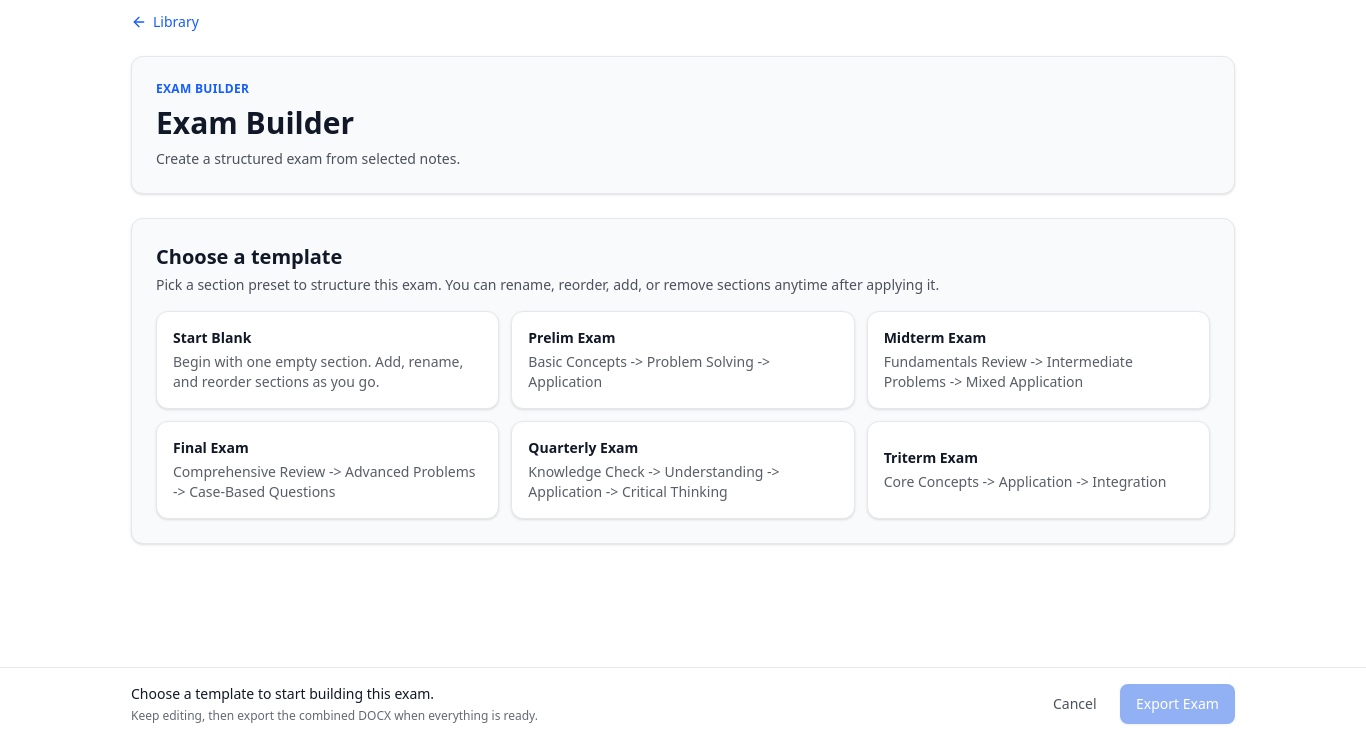
Exam Builder page › applies built-in templates and asks before replacing an edited structure
This screenshot has width=1366, height=740.
Click the button "Prelim Exam Basic Concepts -> Problem Solving -> Application": (683, 360) [511,311,855,409]
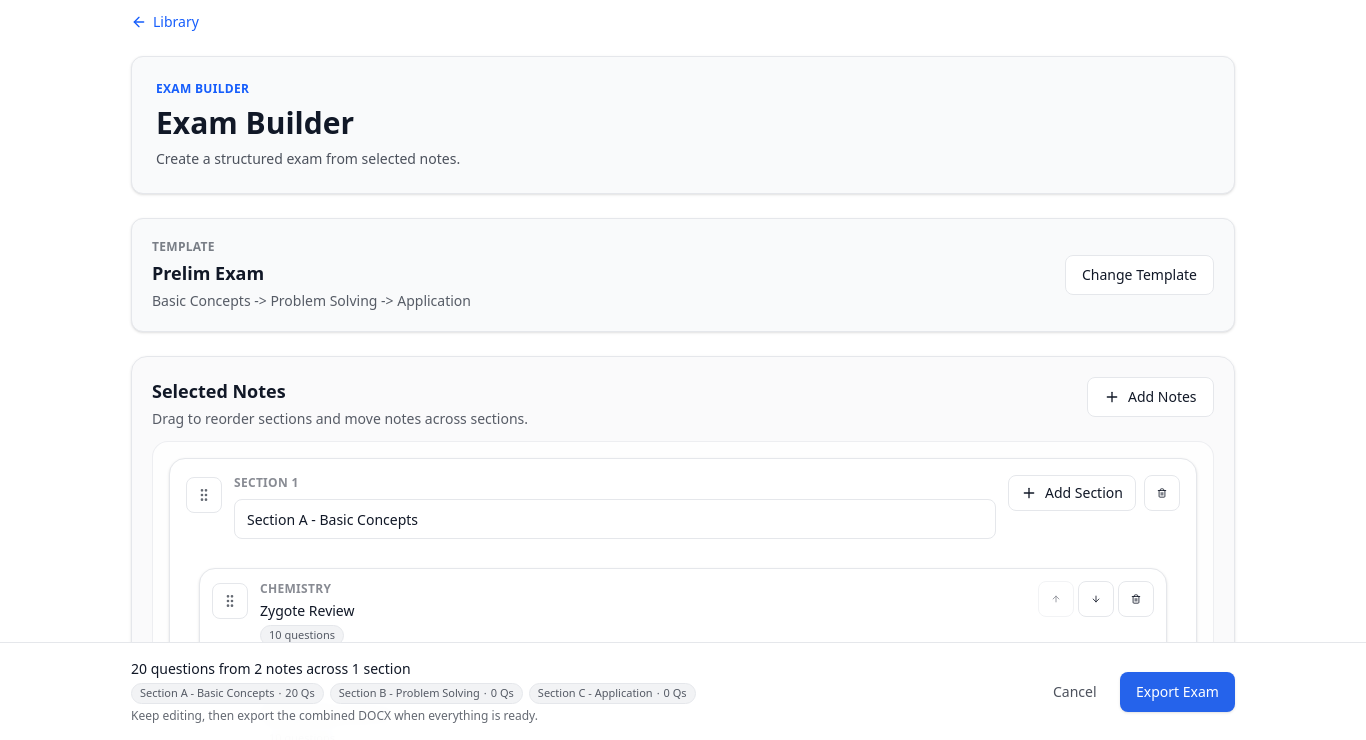
Expected: the field showing "Section A - Basic Concepts" is shown
Replace the text in the field named "Section title 1" with "Section A - Intro Review": (615, 519) [234,499,996,539]
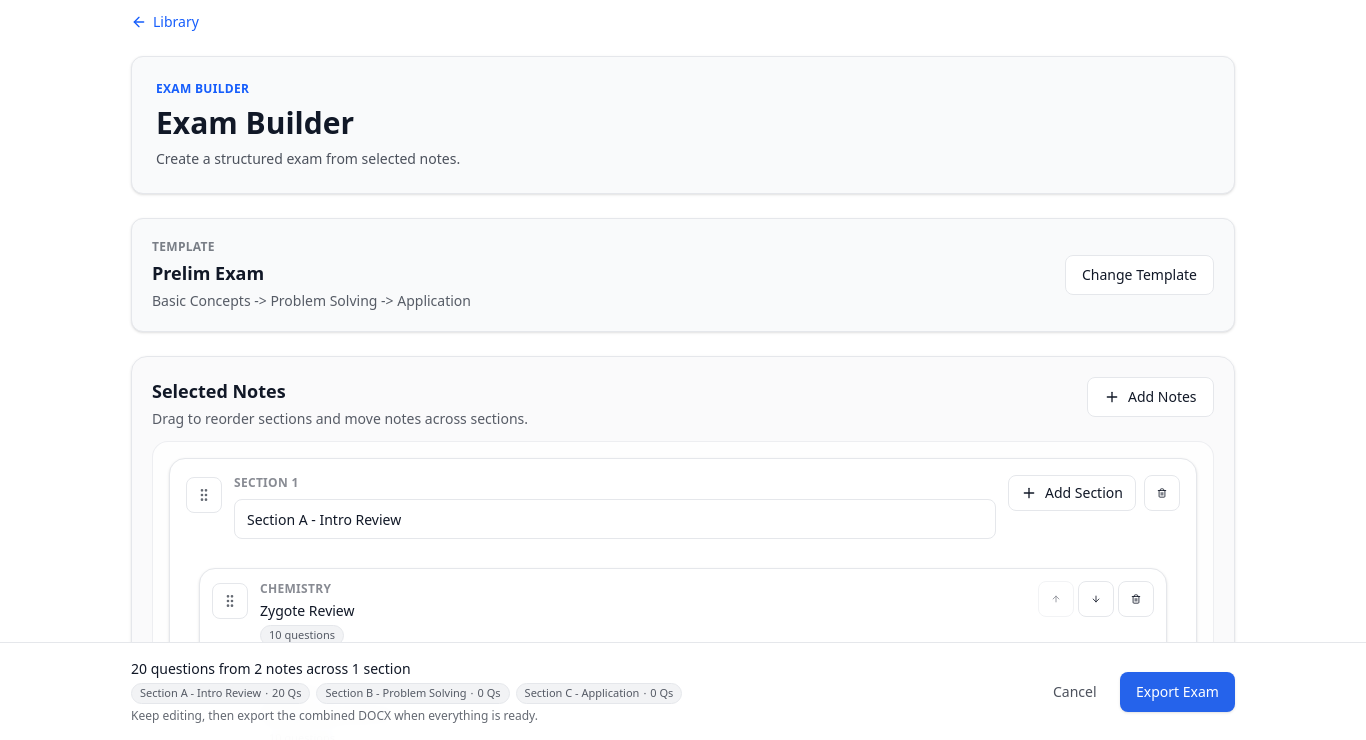
Click the button "Change Template": (1140, 275) [1065,255,1214,295]
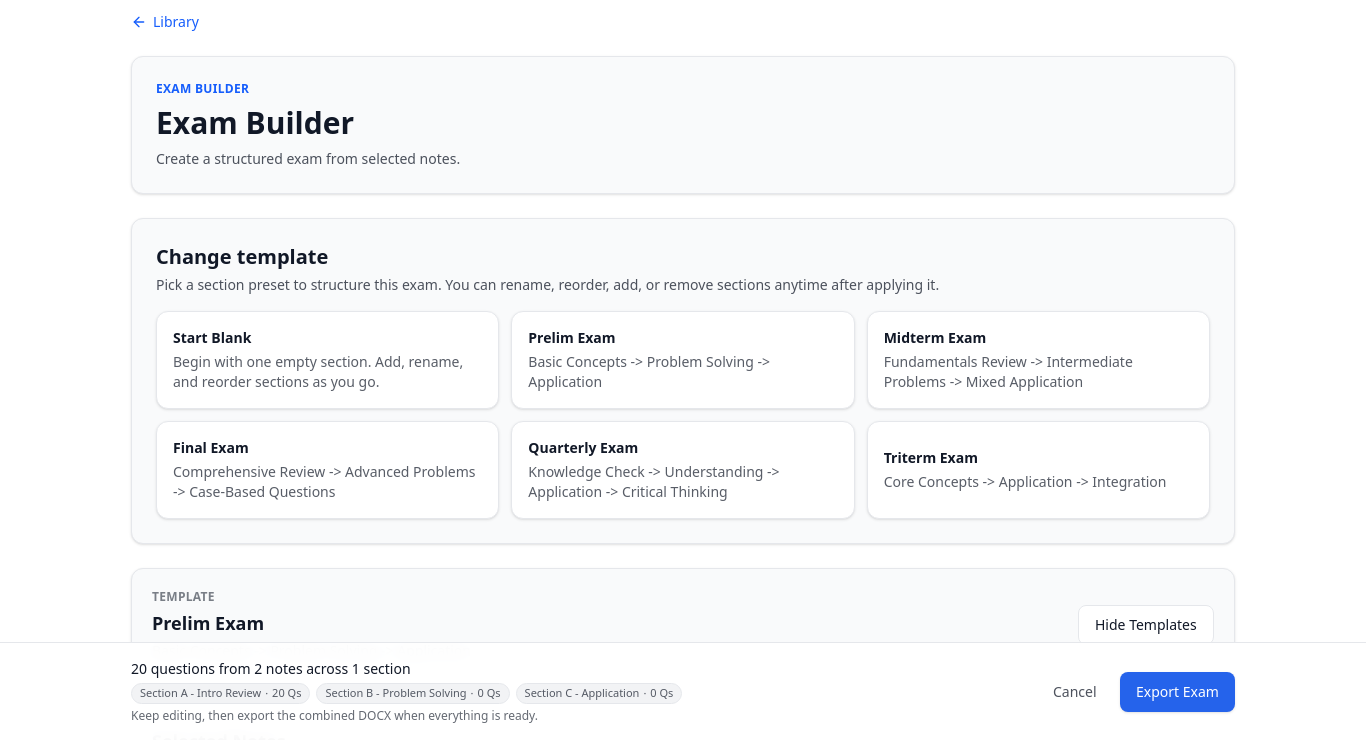
Click the button "Final Exam Comprehensive Review -> Advanced Problems -> Case-Based Questions": (328, 470) [156,421,499,519]
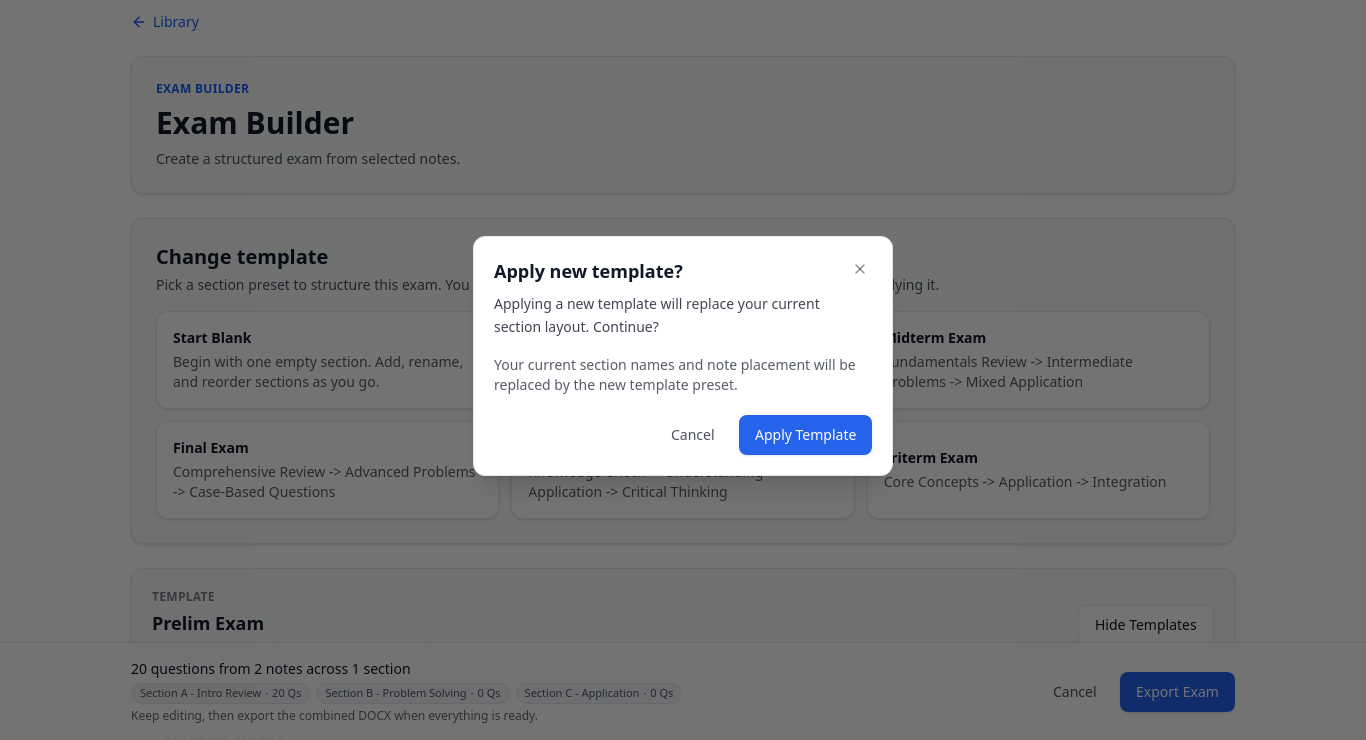
Expected: the heading "Apply new template?" is shown, [494,257,683,285]
Click the button "Apply Template": (805, 435) [739,415,872,455]
(page scrolled)
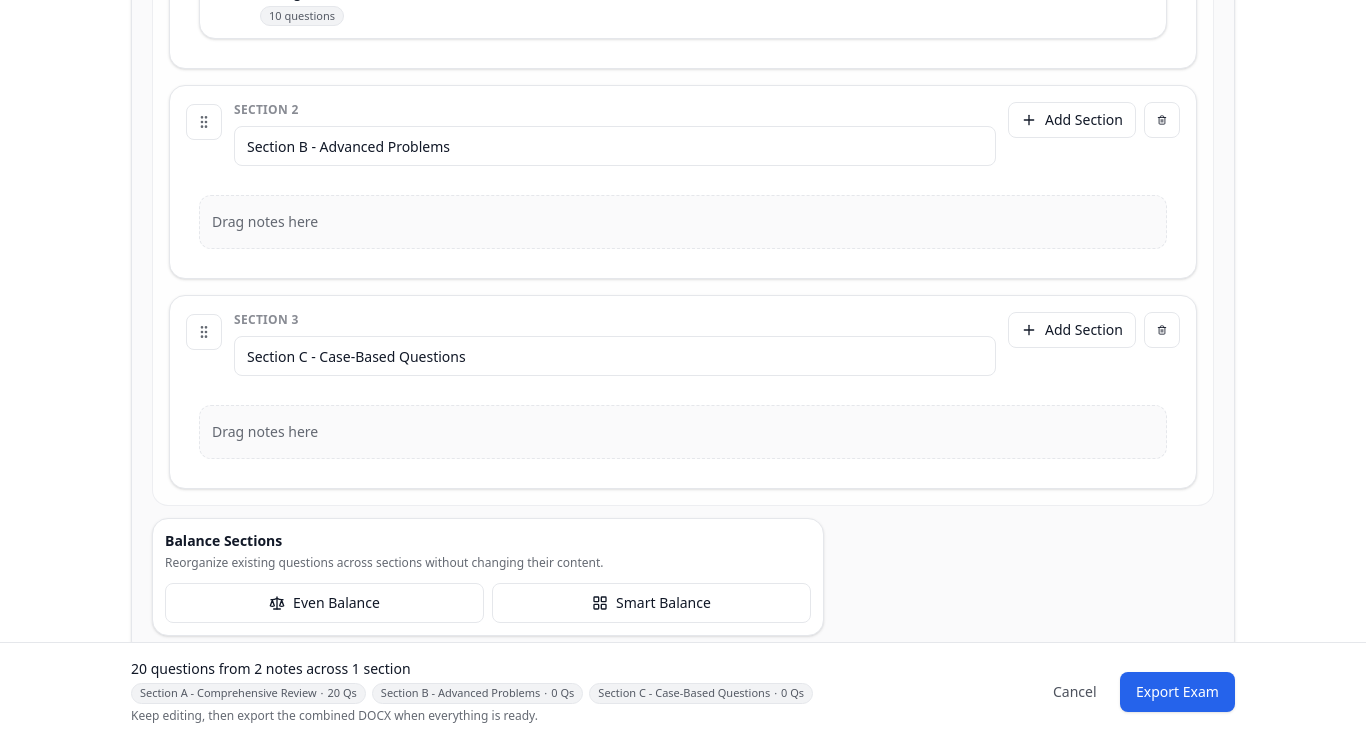
Expected: the field showing "Section B - Advanced Problems" is shown, [234,126,996,166]
Expected: the field showing "Section C - Case-Based Questions" is shown, [234,336,996,376]
